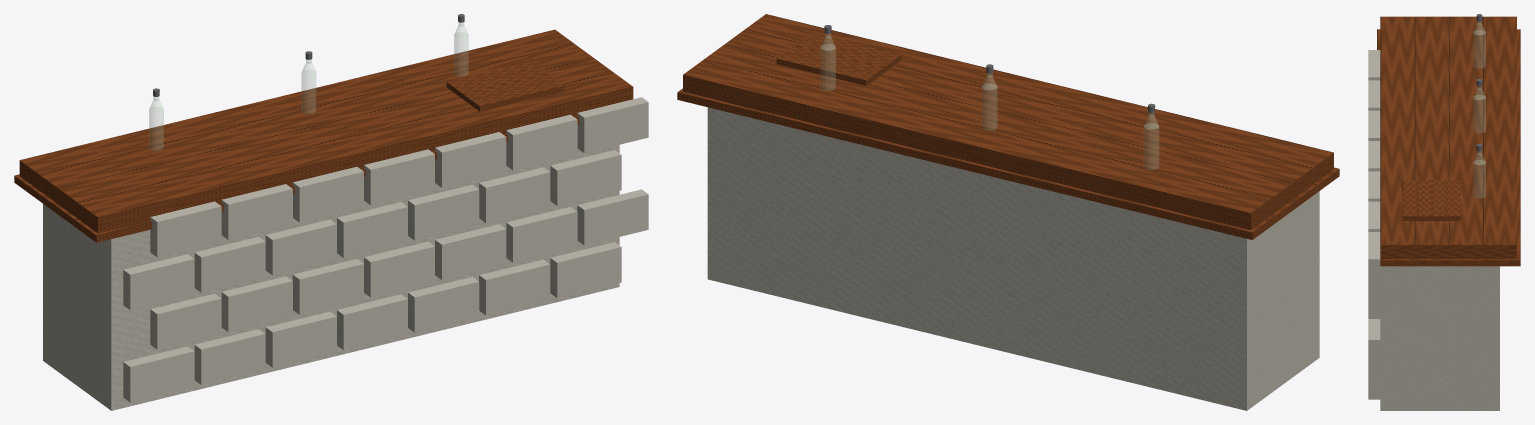
The model's file is tasting-counter.glb.
3 renders of one model, left to right at view 1: azimuth 30°, elevation 25°; view 2: azimuth 150°, elevation 25°; view 3: azimuth 270°, elevation 25°, orthographic. The views are drawn at different scales.
Visible parts, largest first — view 1: tasting-counter-stone, tasting-counter-oak, tasting-counter-glass; view 2: tasting-counter-stone, tasting-counter-oak, tasting-counter-glass; view 3: tasting-counter-oak, tasting-counter-stone, tasting-counter-glass.
Part boxes in pixels (x1,y1,x2,y2): tasting-counter-stone: [43, 97, 648, 410]; tasting-counter-oak: [14, 29, 633, 242]; tasting-counter-glass: [149, 22, 468, 150]; tasting-counter-stone: [707, 107, 1319, 410]; tasting-counter-oak: [677, 14, 1339, 239]; tasting-counter-glass: [820, 34, 1159, 169]; tasting-counter-oak: [1377, 16, 1520, 266]; tasting-counter-stone: [1368, 50, 1499, 410]; tasting-counter-glass: [1473, 21, 1485, 198].
Size of the model in its own units: 3.23 by 1.44 by 0.8899.
Materials: 4 (2 with a texture image).
